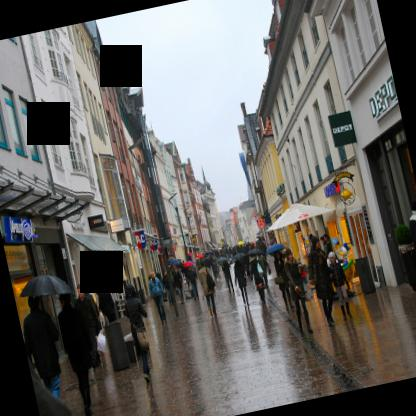backpack: (205, 265, 215, 290)
handbag: (125, 301, 150, 349), (310, 248, 318, 285), (274, 270, 284, 284), (257, 260, 263, 278)
suitcase: (104, 320, 130, 370)
